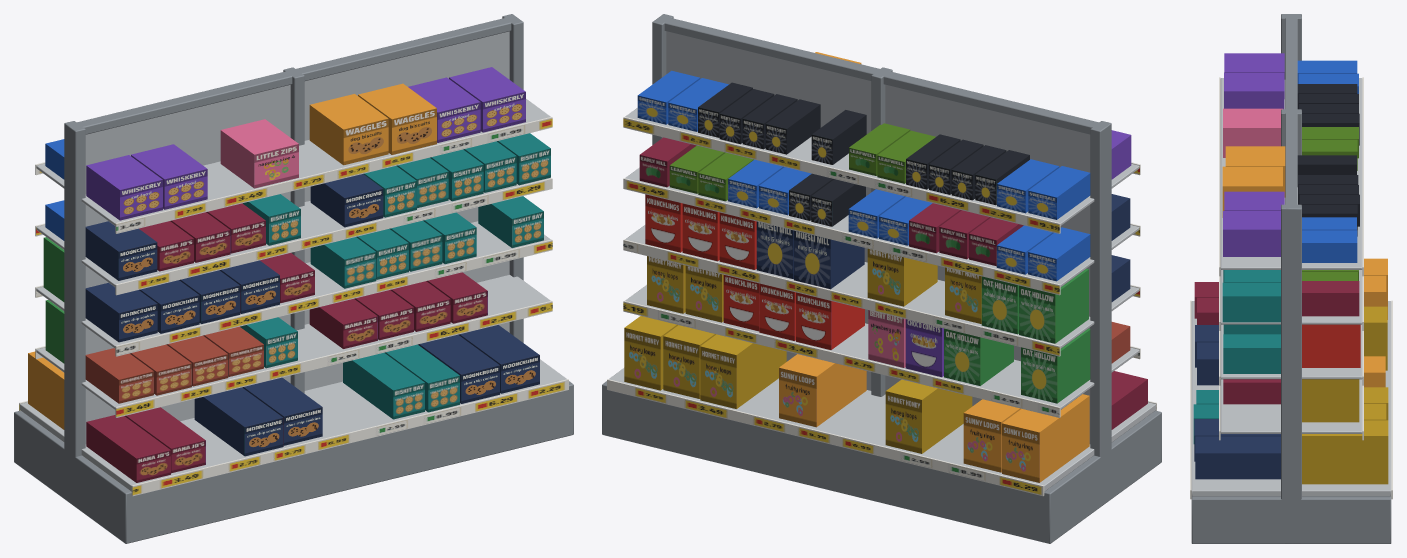
File: gondola_a.glb
3 renders of one model, left to right at view 1: azimuth 30°, elevation 25°; view 2: azimuth 150°, elevation 25°; view 3: azimuth 270°, elevation 25°, orthographic. The views are drawn at different scales.
Parts seen in each view (by area): view 1: gondola_a; view 2: gondola_a; view 3: gondola_a.
Boxes of the visible parts, left/top/right/bottom form: gondola_a: left=14, top=14, right=573, bottom=543; gondola_a: left=602, top=14, right=1161, bottom=543; gondola_a: left=1190, top=14, right=1392, bottom=543.
Bounding box in the file's own units: 11.1 × 8.9 × 4.88.
Materials: 6 (2 with a texture image).
